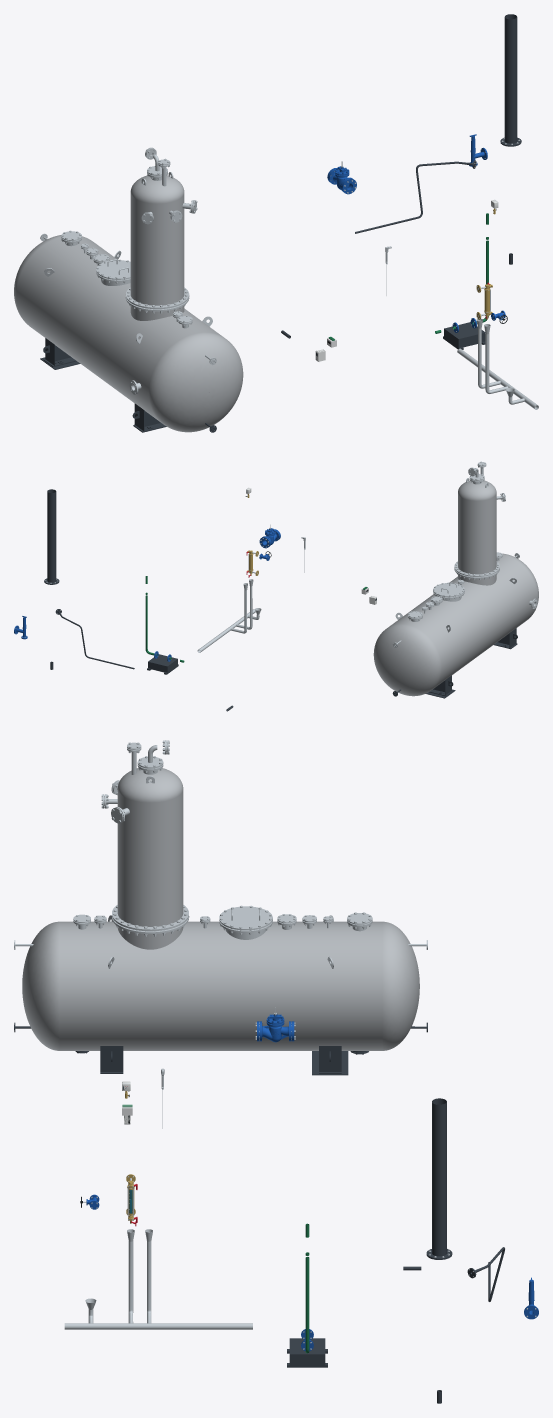
3 renders of one model, top to bottom at view 1: azimuth 30°, elevation 25°; view 2: azimuth 150°, elevation 25°; view 3: azimuth 270°, elevation 25°, orthographic. The views are drawn at different scales.
Parts seen in each view (by area): view 1: deaerator CAD solid 56, deaerator CAD solid 257, bdv_vent / dark, local_open_drains / steel, pump_branch_2 / dark, deaerator CAD solid 408; view 2: deaerator CAD solid 56, deaerator CAD solid 257, bdv_vent / dark, local_open_drains / steel, pump_branch_2 / dark, deaerator CAD solid 408; view 3: deaerator CAD solid 56, deaerator CAD solid 257, local_open_drains / steel, bdv_vent / dark, pump_branch_2 / dark, deaerator CAD solid 408.
Boxes of the visible parts, x1,y1,x2,y2 form: deaerator CAD solid 56: (14,235,243,432); deaerator CAD solid 257: (130,175,184,305); bdv_vent / dark: (500,14,521,146); local_open_drains / steel: (457,318,538,409); pump_branch_2 / dark: (443,322,485,349); deaerator CAD solid 408: (96,260,130,279); deaerator CAD solid 56: (373,553,538,696); deaerator CAD solid 257: (458,480,496,574); bdv_vent / dark: (44,489,59,584); local_open_drains / steel: (197,579,261,652); pump_branch_2 / dark: (147,654,178,674); deaerator CAD solid 408: (433,583,464,597); deaerator CAD solid 56: (22,921,419,1050); deaerator CAD solid 257: (117,768,183,926); local_open_drains / steel: (64,1229,252,1329); bdv_vent / dark: (426,1098,452,1259); pump_branch_2 / dark: (287,1338,327,1367); deaerator CAD solid 408: (219,906,272,930).
Bounding box in the file's own units: 8.3 × 4.82 × 5.77.
